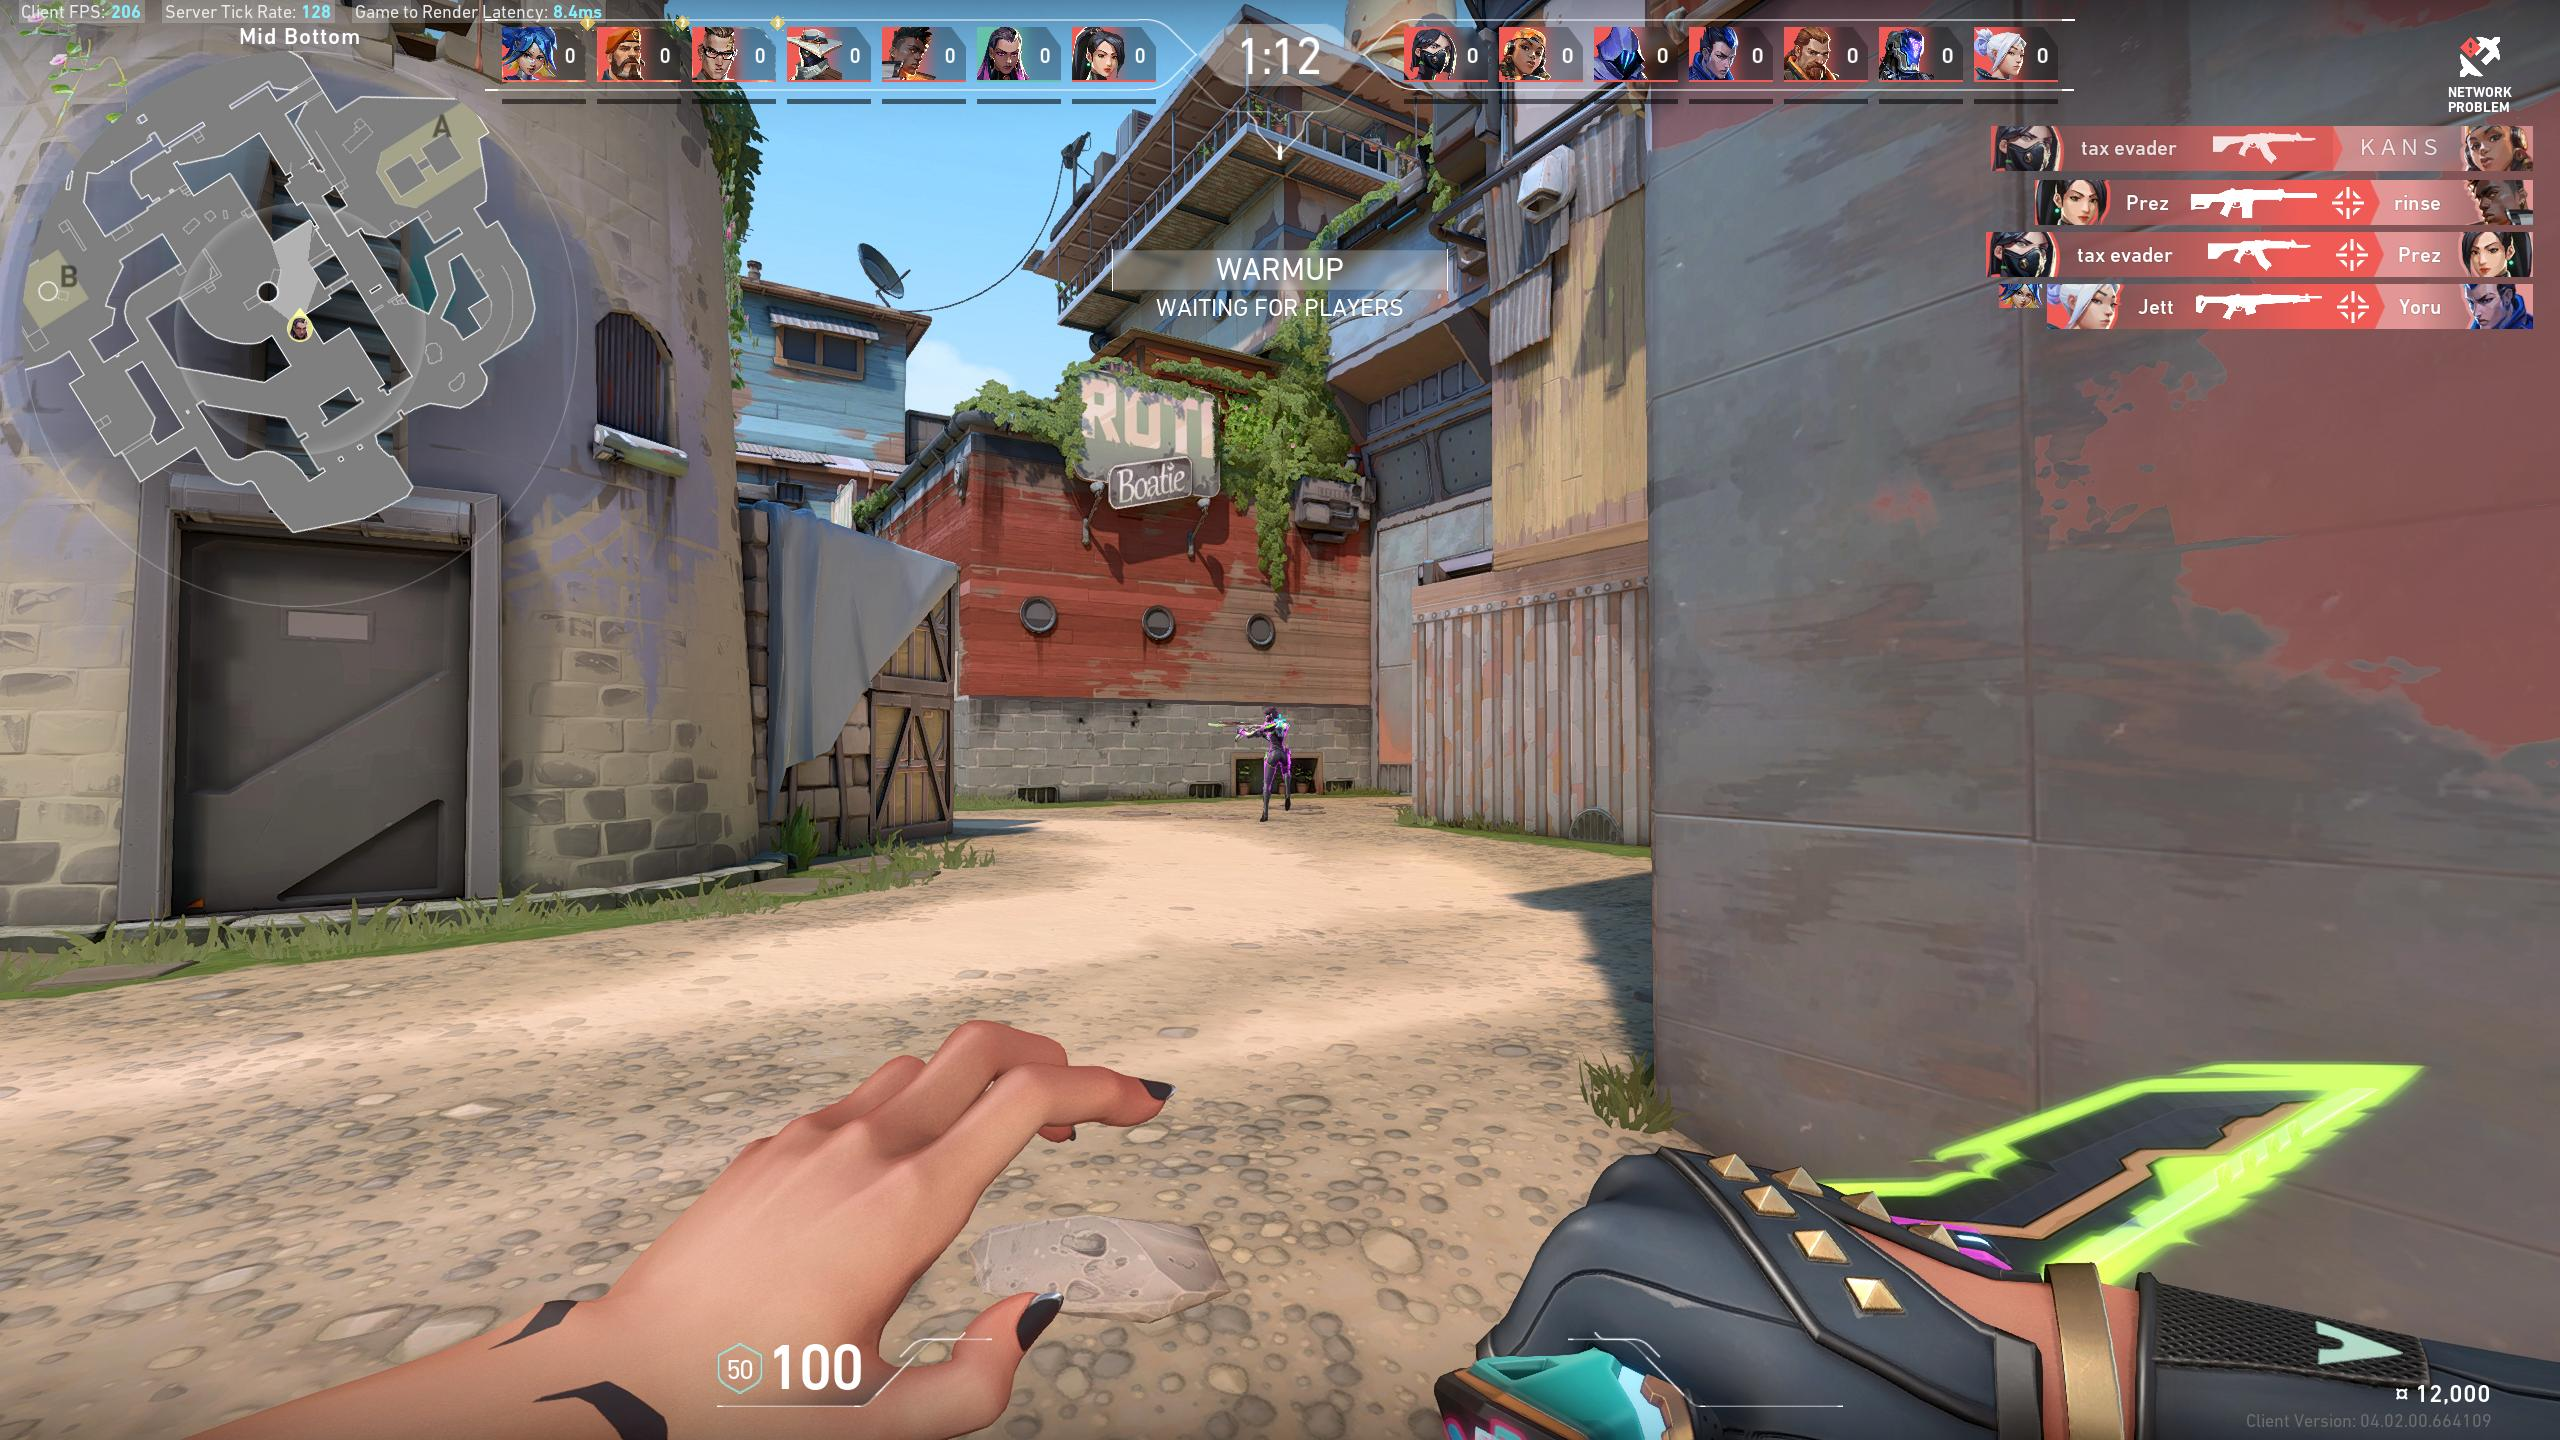enemyBody: (1268, 723, 1282, 744)
enemyHead: (1266, 710, 1276, 721)
